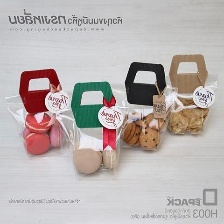snack: (52, 77, 132, 181), (1, 63, 81, 164), (109, 56, 181, 155), (158, 47, 223, 140)
